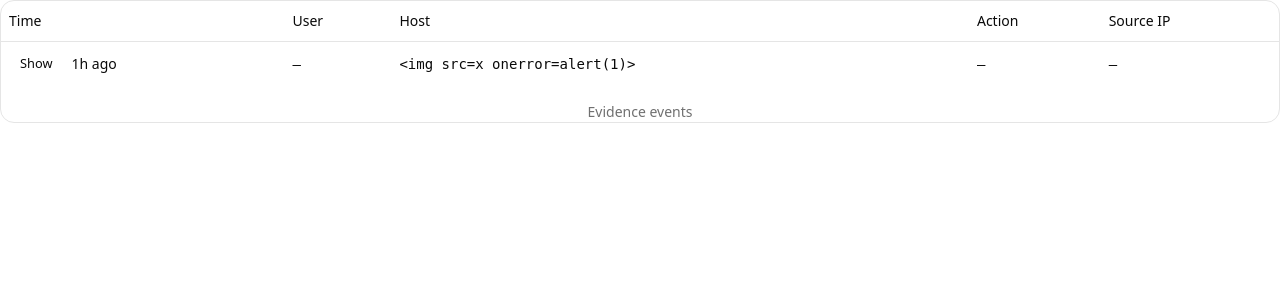
Test: EventViewer › renders a markup value as text without creating an element
Expected: the text "<img src=x onerror=alert(1)>" is shown, [391,41,969,86]
What coordinates should you click on to do the following:
click the button with aria-label "Show fields for "
I would click on:
 (36, 64)
Its box is [9,50,64,78].
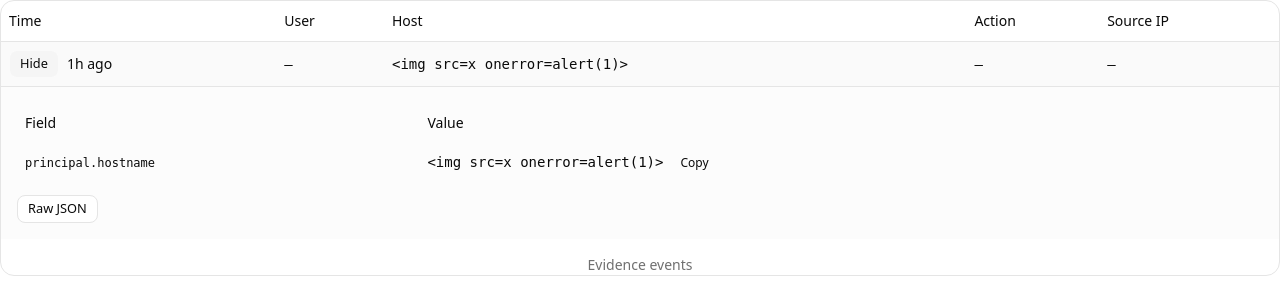
Expected: the text "<img src=x onerror=alert(1)>" is shown, [427,154,663,170]
